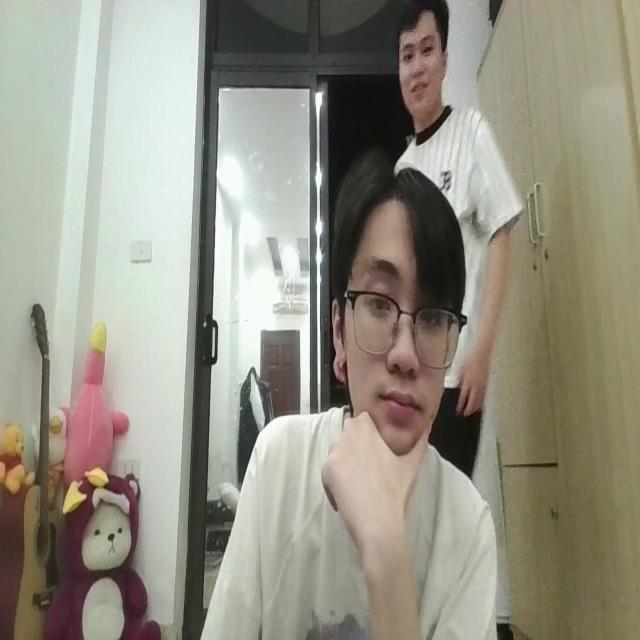extra_person: (379, 7, 523, 227)
student: (198, 169, 498, 640)
